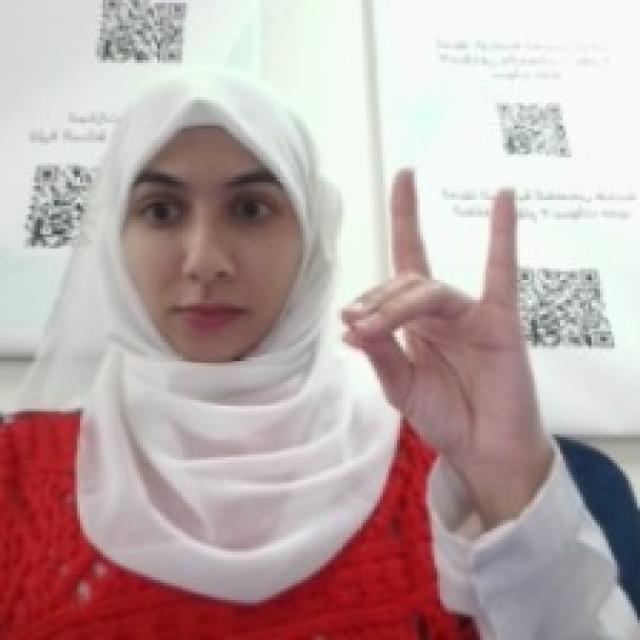Dog: (334, 160, 543, 463)
